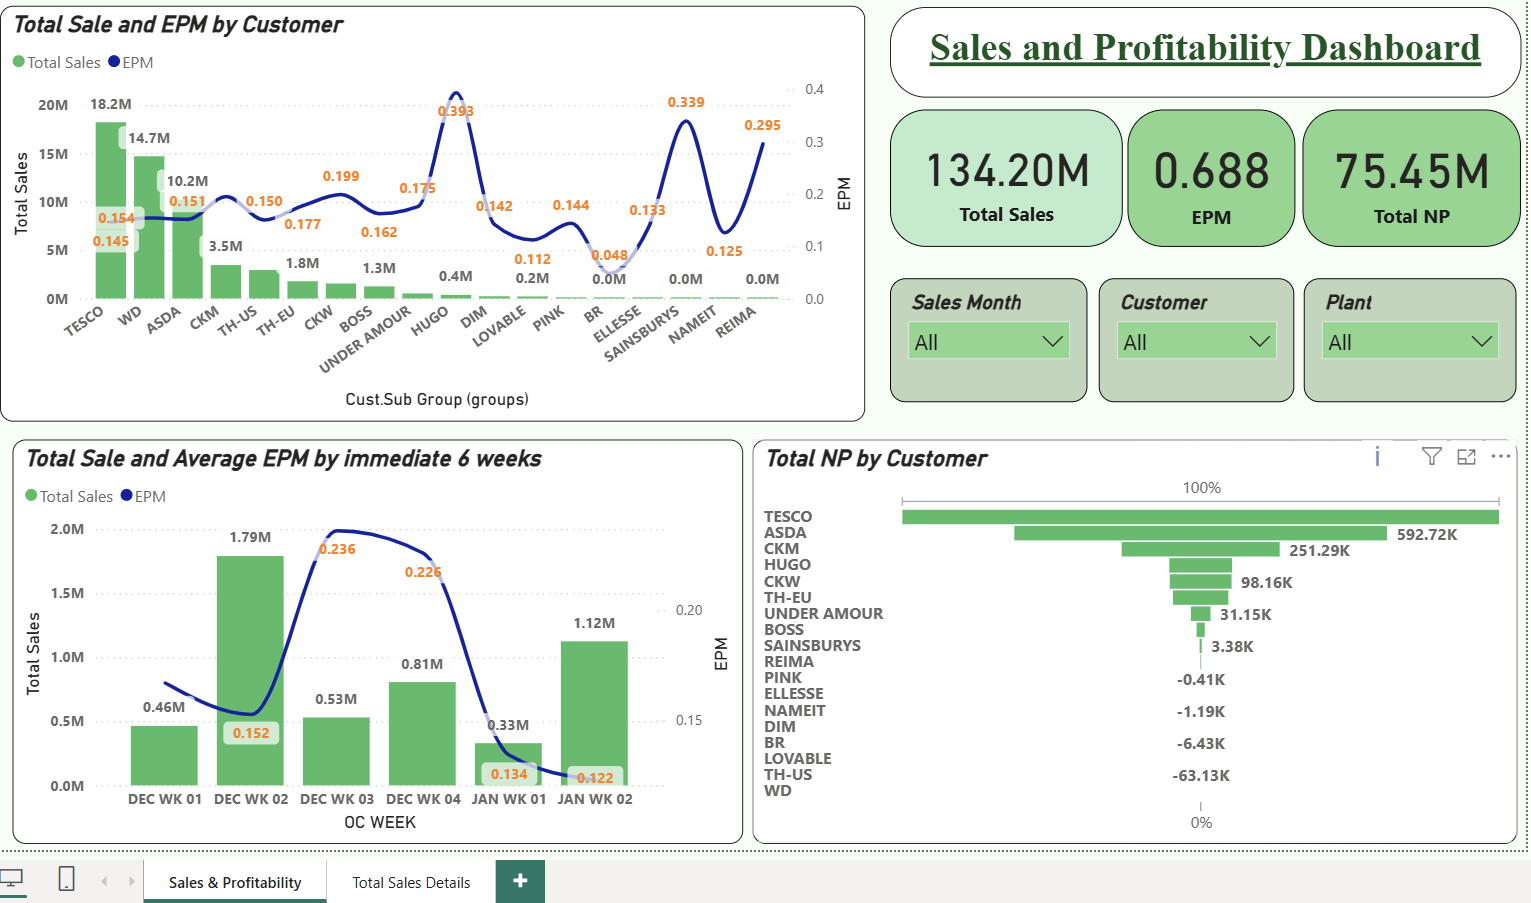

The page's visual inventory and layout, read from the dashboard file:
{"tool":"powerbi","page":{"name":"Sales & Profitability","canvas":[1280,720],"ordinal":0},"visuals":[{"type":"lineClusteredColumnComboChart","title":"Total Sale and EPM by Customer","fields":{"Y":["EPM Table.Total Sales"],"Category":["EPM Table.Cust.Sub Group (groups)"],"Y2":["EPM Table.EPM"]},"box":[0,11.5,725.8,348.5],"z":0},{"type":"lineClusteredColumnComboChart","title":"Total Sale and Average EPM by immediate 6 weeks ","fields":{"Category":["EPM Table.OC WEEK"],"Y":["EPM Table.Total Sales"],"Y2":["EPM Table.EPM"]},"box":[10.6,375.2,612.8,339],"z":1000},{"type":"slicer","fields":{"Values":["EPM Table.Sales Month New"]},"box":[745.9,240.5,165.6,103.7],"z":2000},{"type":"textbox","box":[745.9,12.1,529.6,75.7],"z":3000},{"type":"card","fields":{"Values":["EPM table.Total Sales"]},"box":[745.9,98.3,195.2,115],"z":4000},{"type":"card","fields":{"Values":["EPM Table.Total NP"]},"box":[1092.4,98.3,183.1,115],"z":5000},{"type":"funnel","title":"Total NP by Customer","fields":{"Category":["EPM table.Cust.Sub Group (groups)"],"Y":["EPM Table.Total NP"]},"box":[630.9,375.2,641.5,339],"z":6000},{"type":"card","fields":{"Values":["EPM Table.EPM"]},"box":[945.6,98.3,140.7,115],"z":7000},{"type":"slicer","fields":{"Values":["Filtered.Cust.Sub Group (groups)"]},"box":[921,240.5,164.2,103.7],"z":8000},{"type":"slicer","fields":{"Values":["Filtered.Plant Name New"]},"box":[1093,240.5,178.6,103.7],"z":9000}]}

Visuals, with their boxes on the page's 1280x720 design canvas (x1, y1, x2, y2). These are canvas units, not pixel positions in the 1531x903 screenshot, which may show the page scaled, cropped or inside an application window:
"Total Sale and EPM by Customer" lineClusteredColumnComboChart: select_region(0, 12, 726, 360)
"Total Sale and Average EPM by immediate 6 weeks " lineClusteredColumnComboChart: select_region(11, 375, 623, 714)
slicer - EPM Table.Sales Month New: select_region(746, 240, 912, 344)
textbox: select_region(746, 12, 1276, 88)
card - EPM table.Total Sales: select_region(746, 98, 941, 213)
card - EPM Table.Total NP: select_region(1092, 98, 1276, 213)
"Total NP by Customer" funnel: select_region(631, 375, 1272, 714)
card - EPM Table.EPM: select_region(946, 98, 1086, 213)
slicer - Filtered.Cust.Sub Group (groups): select_region(921, 240, 1085, 344)
slicer - Filtered.Plant Name New: select_region(1093, 240, 1272, 344)
